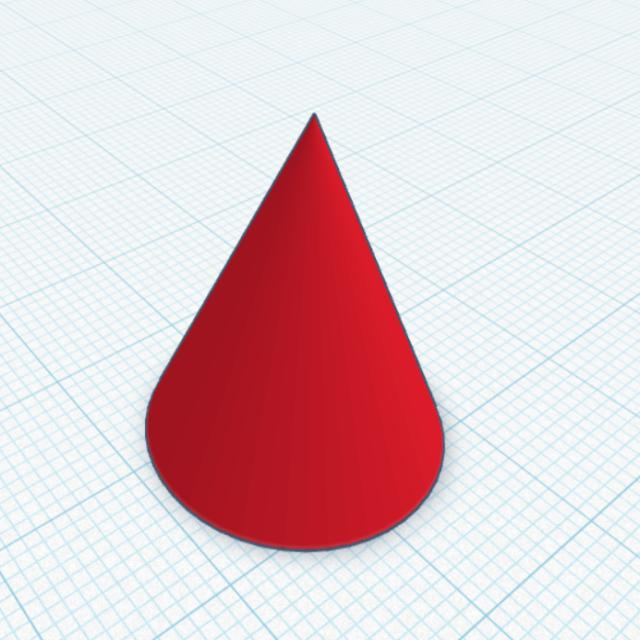cone: (136, 106, 454, 563)
